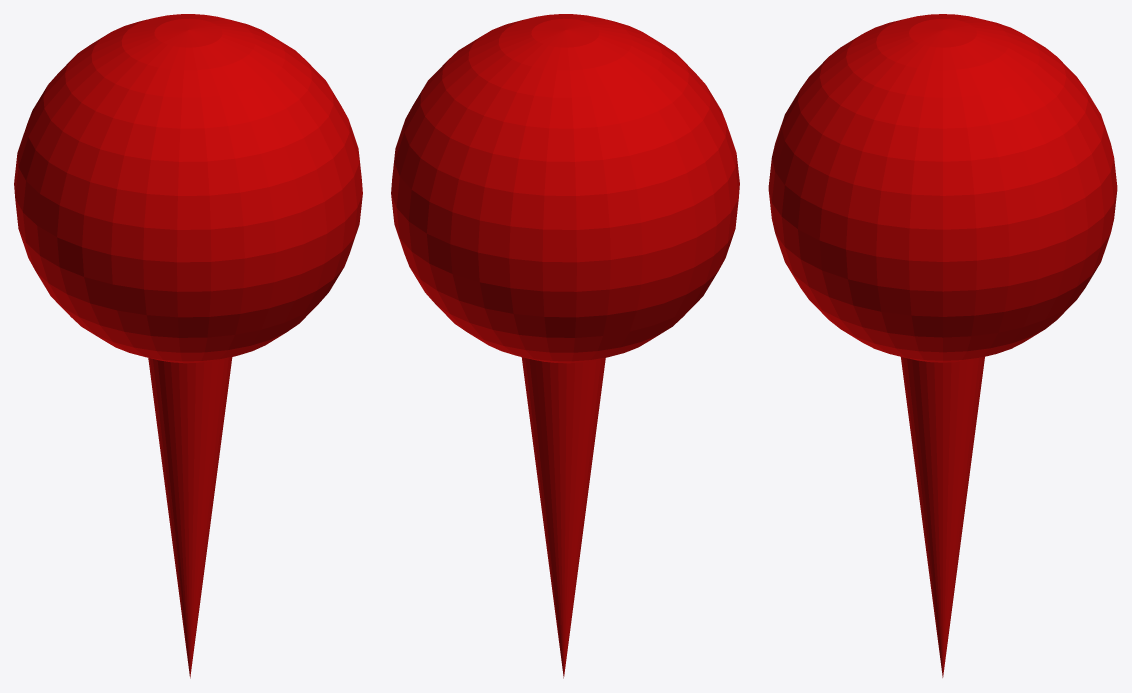
Rendered from softbank.dae.
3 renders of one model, left to right at view 1: azimuth 30°, elevation 25°; view 2: azimuth 150°, elevation 25°; view 3: azimuth 270°, elevation 25°, orthographic.
Visible parts, largest first — view 1: __; view 2: __; view 3: __.
Boxes of the visible parts, x1,y1,x2,y2 form: __: (14,14,362,678); __: (391,14,739,678); __: (768,14,1117,677).
Size of the model in its own units: 0.4838 by 0.9911 by 0.4838.
